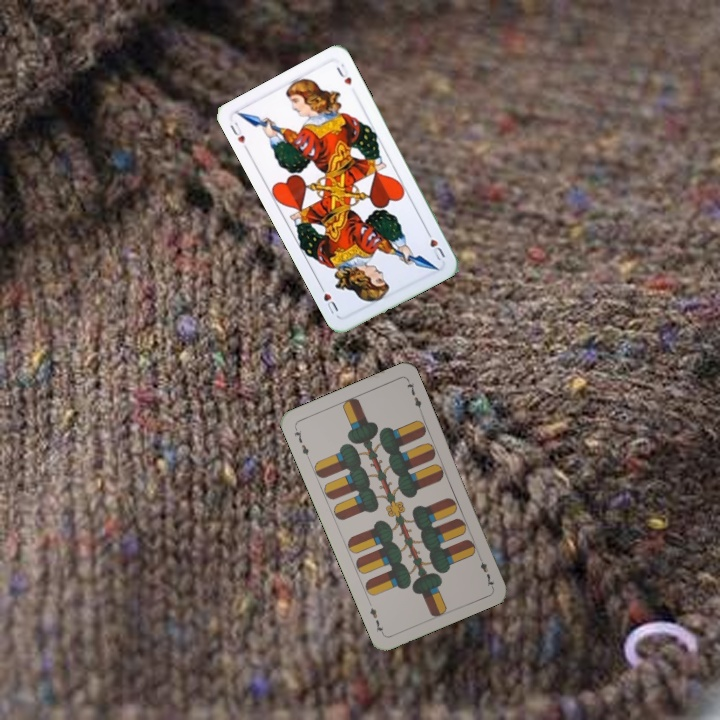E7: (474, 550, 496, 589), (290, 424, 312, 462)
HU: (422, 225, 448, 264), (226, 118, 247, 146)
